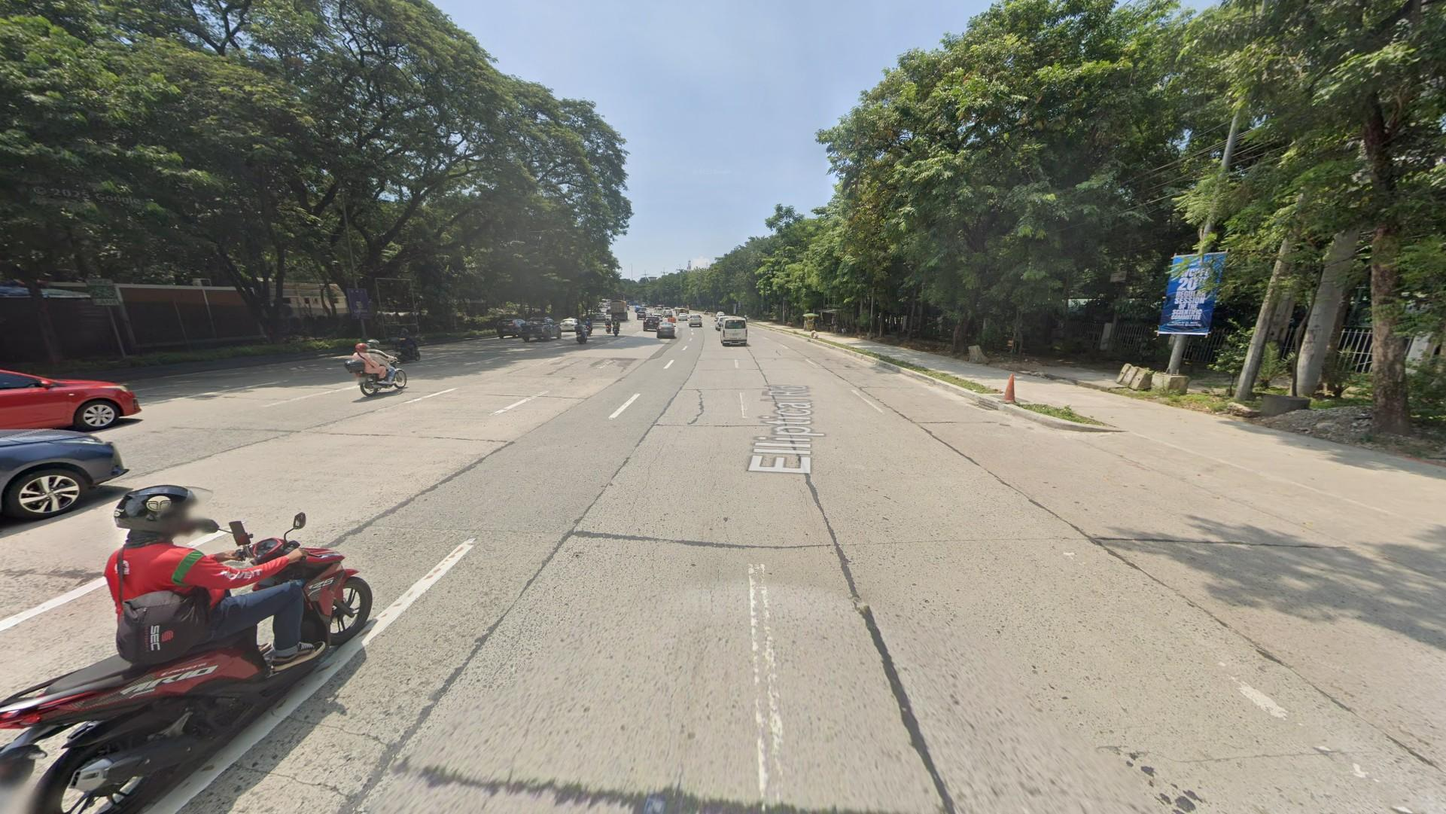pedestrian: (832, 321, 839, 334)
